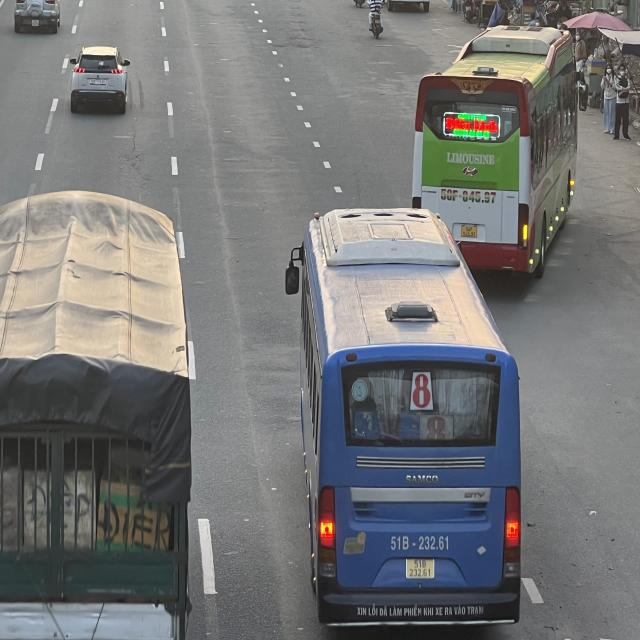car: (66, 46, 130, 115)
coach: (295, 210, 522, 638), (410, 26, 579, 279)
truck: (0, 190, 187, 625)
